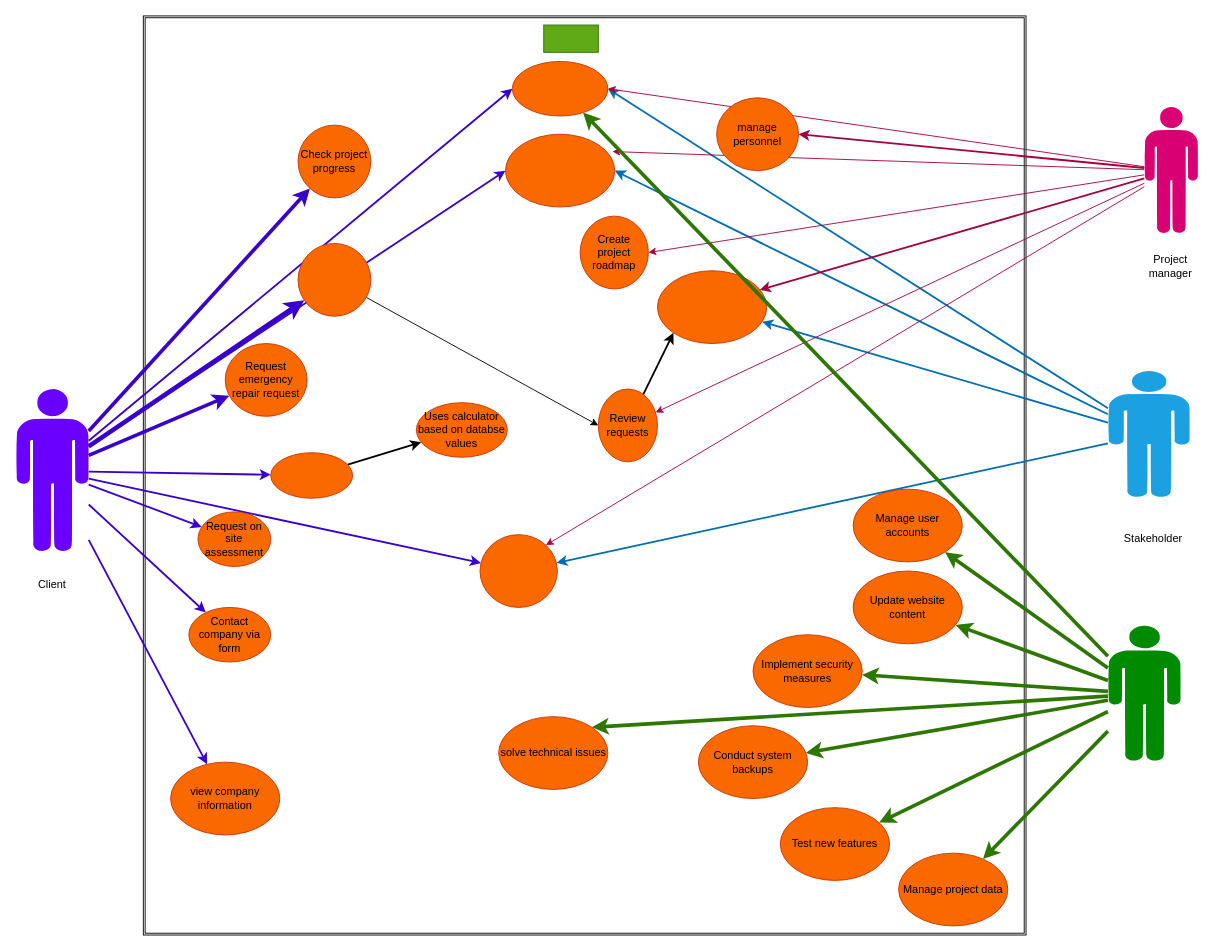
The diagram is 1214 pixels wide and 951 high, and some of its shapes have lost their labels. Here are the shapes that lost their labels. From the top down, the box of each, then its label:
(543, 24, 598, 52): LienCo Construction
(511, 61, 608, 116): Login
(505, 133, 615, 207): Commmunicate with client / project manager
(297, 243, 371, 316): Request project changes
(657, 270, 767, 344): Update project progress
(270, 452, 353, 498): Use the assessment calculator
(479, 534, 557, 607): monitor resource allocation
